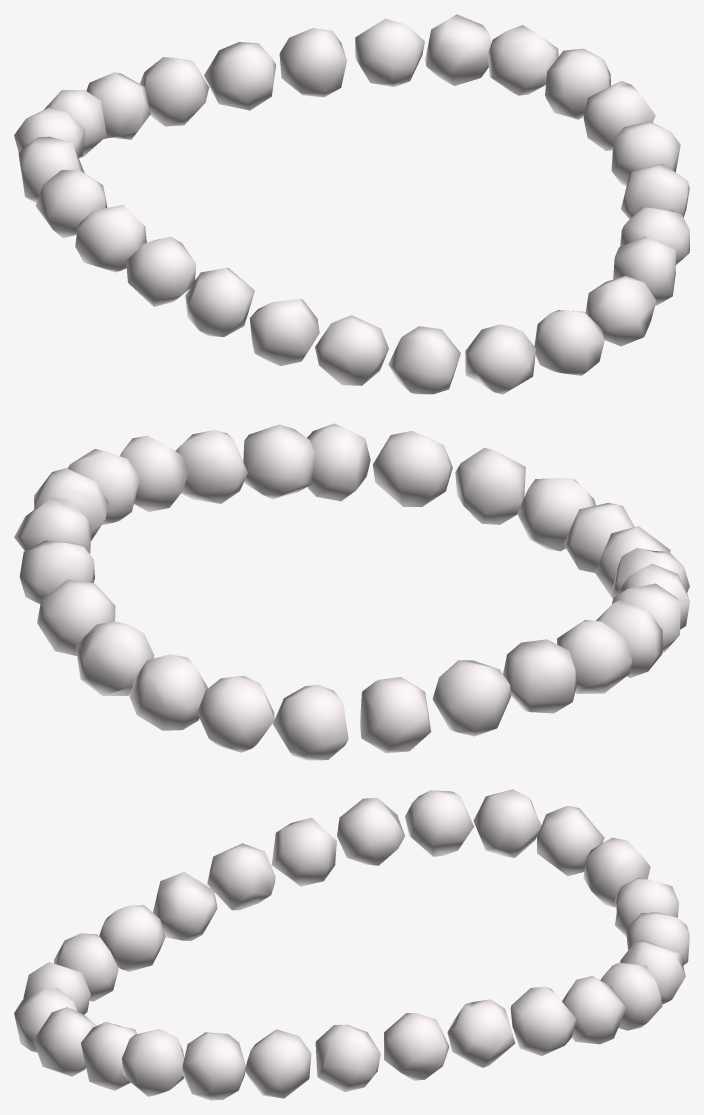
Rendered from necklace.fbx.
3 renders of one model, top to bottom at view 1: azimuth 30°, elevation 25°; view 2: azimuth 150°, elevation 25°; view 3: azimuth 270°, elevation 25°, orthographic. The views are drawn at different scales.
Parts seen in each view (by area): view 1: necklace; view 2: necklace; view 3: necklace.
Boxes of the visible parts, box(x1,y1,x2,y2) form: necklace: box(14, 14, 689, 394); necklace: box(14, 423, 689, 760); necklace: box(14, 789, 689, 1100).
Size of the model in its own units: 35.62 by 8.53 by 38.4.
Materials: 1 (1 with a texture image).
